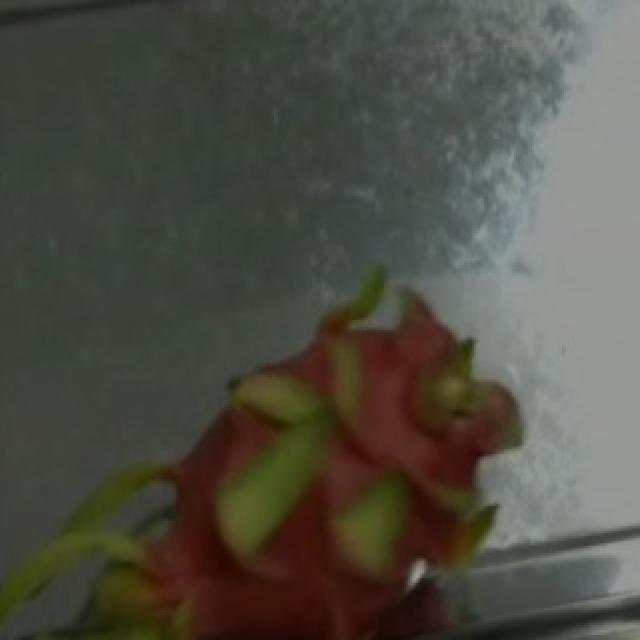fruit: (170, 211, 582, 637)
